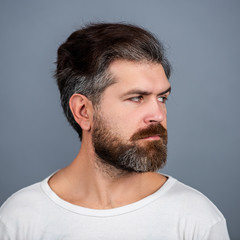young: (48, 24, 181, 176)
